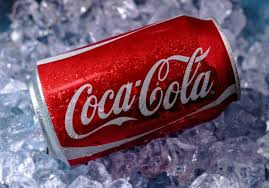coke-can: (24, 12, 248, 167)
